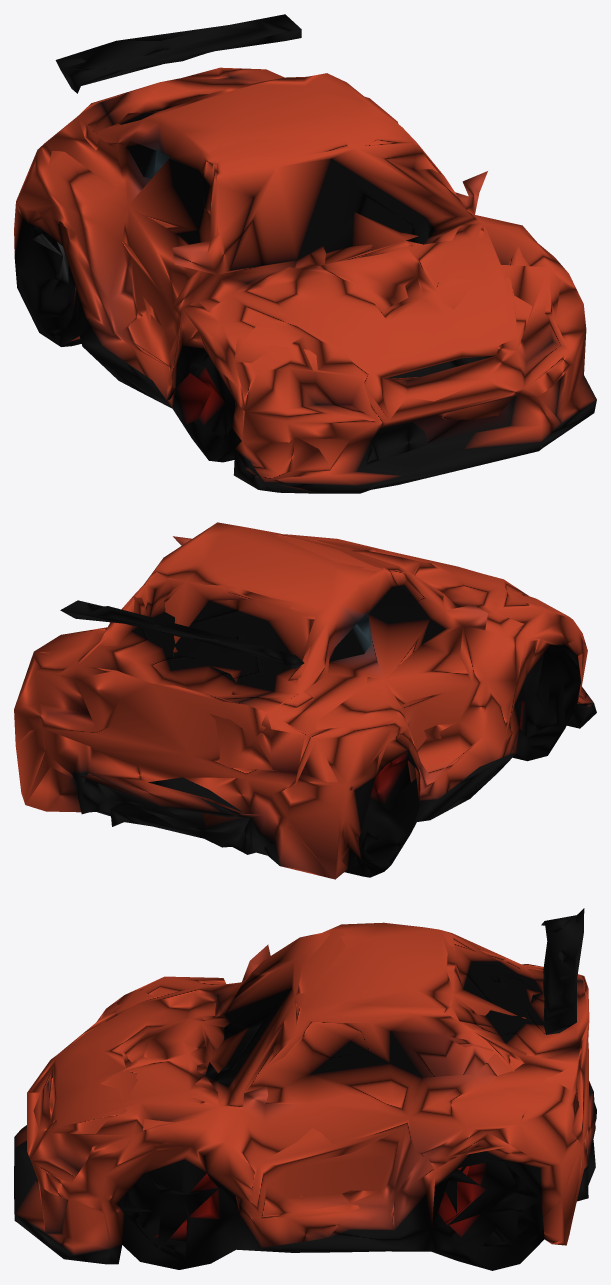
Rendered from gen3d-race-car-lod0.glb.
3 views of the same model, one above another, from view 1: azimuth 30°, elevation 25°; view 2: azimuth 150°, elevation 25°; view 3: azimuth 270°, elevation 25° (orthographic). The views are drawn at different scales.
Parts seen in each view (by area): view 1: part_0; view 2: part_0; view 3: part_0.
Part boxes in pixels (bbox=[...]): part_0: bbox=[14, 14, 596, 493]; part_0: bbox=[14, 522, 596, 879]; part_0: bbox=[14, 908, 596, 1270].
Bounding box in the file's own units: 1.52 × 0.9948 × 2.23.
